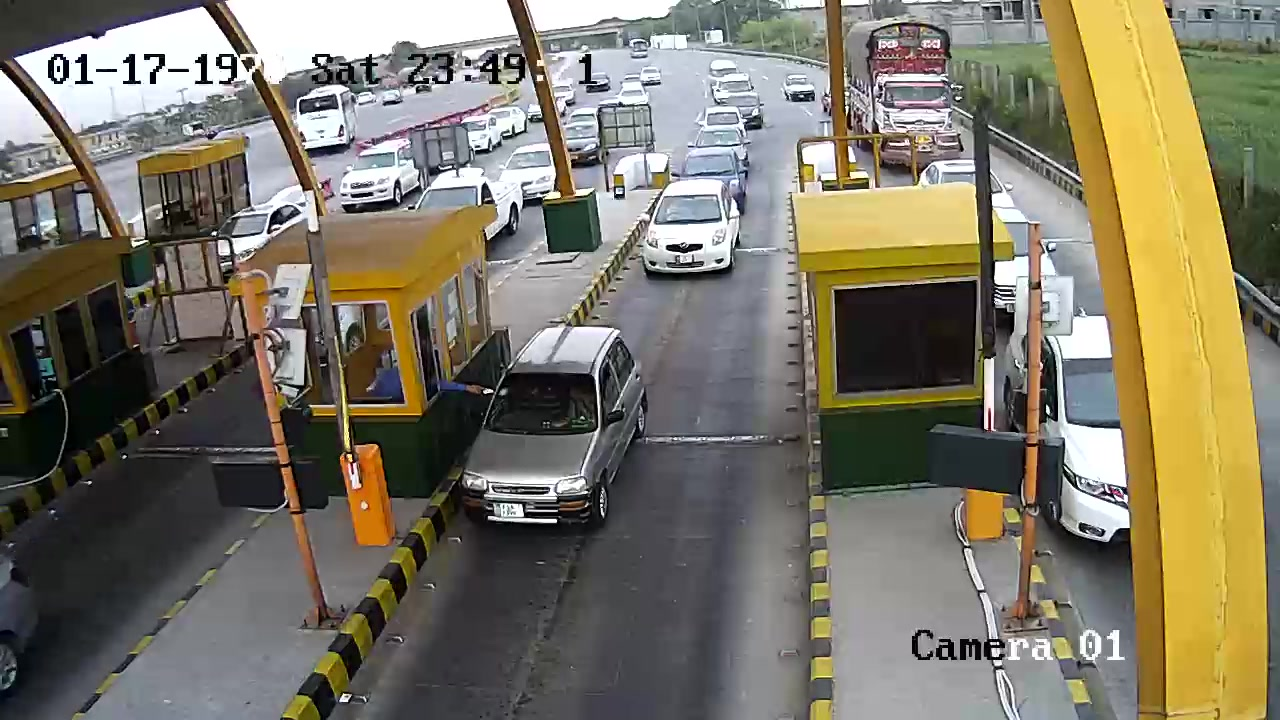F1: (457, 318, 663, 533)
